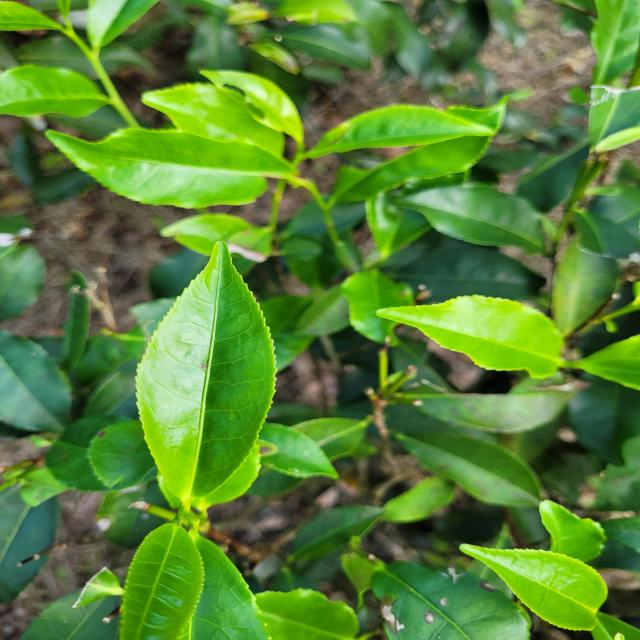Category B(2-4 days): (125, 224, 296, 527)
